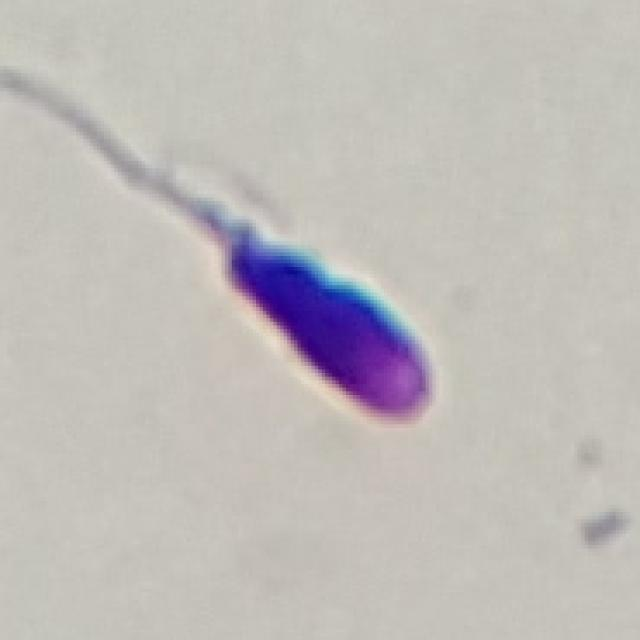abnormal sperm: (15, 45, 442, 426)
